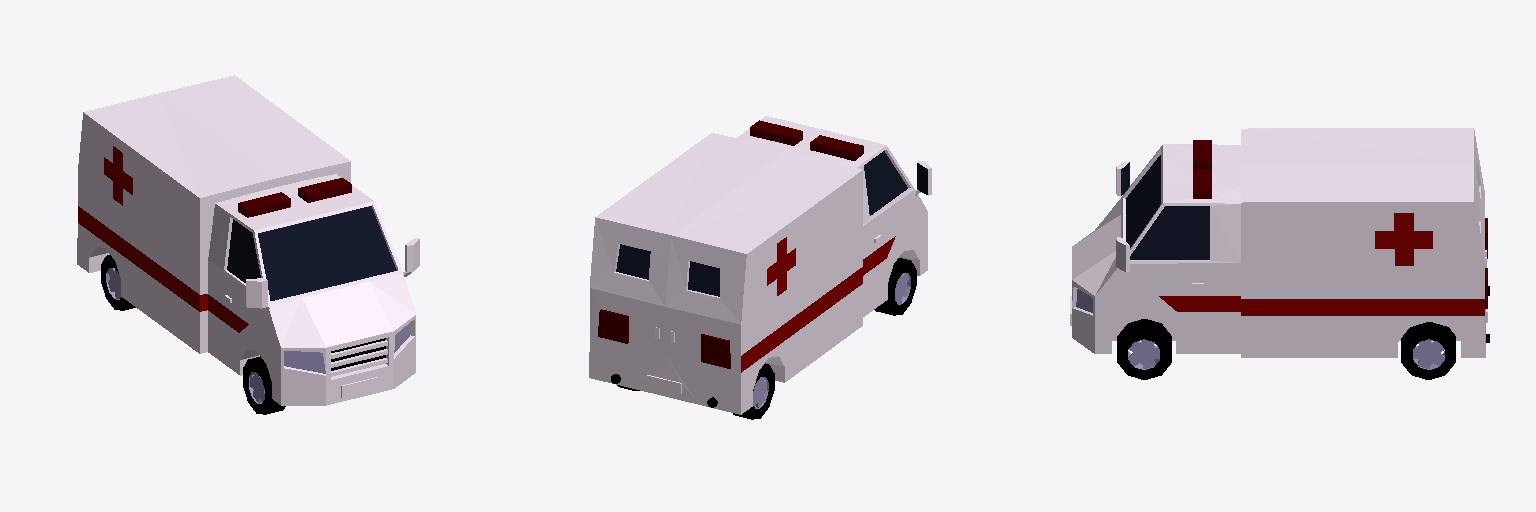
File: ambulance.obj
The picture shows the model from 3 angles: view 1: azimuth 30°, elevation 25°; view 2: azimuth 150°, elevation 25°; view 3: azimuth 270°, elevation 25°; orthographic projection.
Visible parts, largest first — view 1: Ambulance; view 2: Ambulance; view 3: Ambulance.
Part boxes in pixels (left/top/right/bottom): Ambulance: left=77, top=75, right=419, bottom=414; Ambulance: left=589, top=116, right=931, bottom=419; Ambulance: left=1070, top=128, right=1489, bottom=379.
Size of the model in its own units: 2.81 by 2.85 by 5.91.